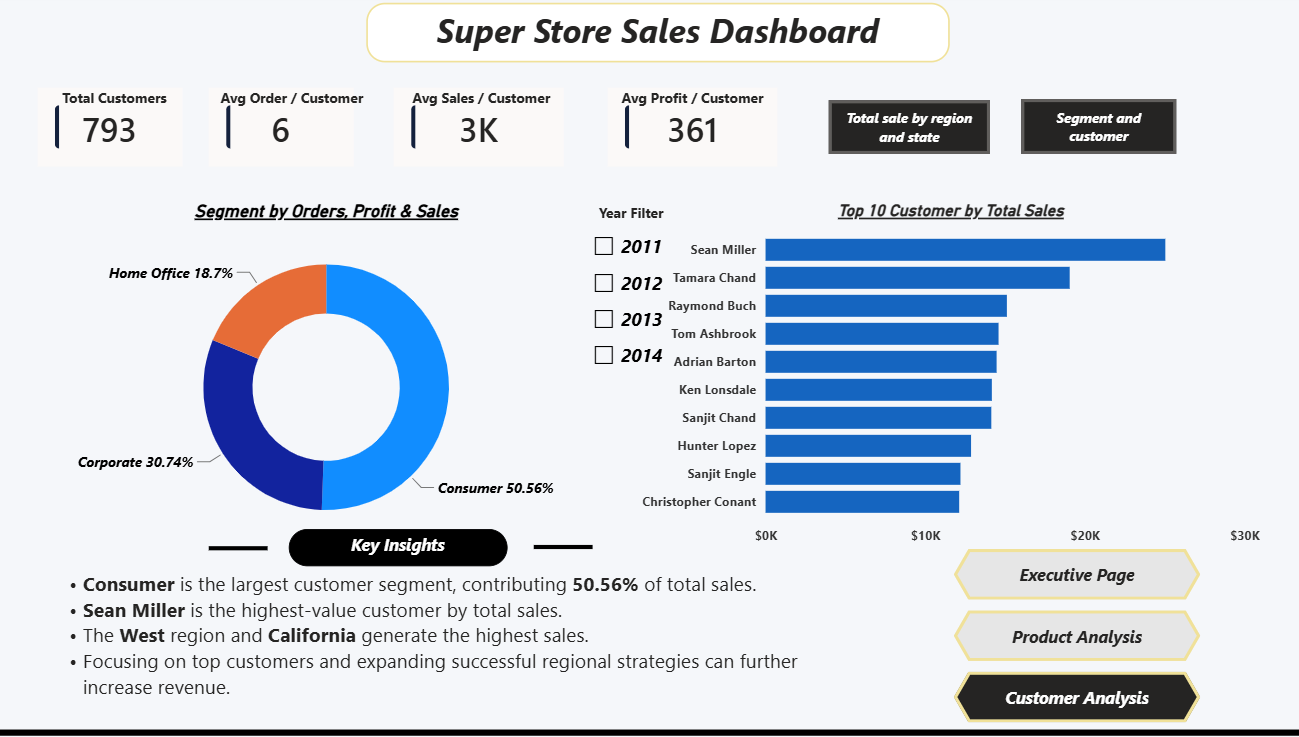

This screenshot's page, from the dashboard's own definition file:
{"tool":"powerbi","page":{"name":"Customer Analysis","canvas":[1280,720],"ordinal":2},"visuals":[{"type":"textbox","box":[358.3,8.4,563.4,57.9],"z":0},{"type":"donutChart","title":"Segment by Orders, Profit & Sales","fields":{"Category":["Orders.Segment"],"Y":["Measures (2).Total Sales"]},"box":[48.5,199.6,543.1,342.1],"z":3000},{"type":"barChart","title":"Top 10 Customer by Total Sales","fields":{"Category":["Orders.Customer Name"],"Y":["Measures (2).Total Sales"]},"box":[618.6,199.6,607.2,342.1],"z":4000},{"type":"textbox","box":[48.3,90.5,125.5,29],"z":7000},{"type":"cardVisual","fields":{"Data":["Measures (2).Total Customer"]},"box":[41,90.5,139.9,76],"z":8000},{"type":"textbox","box":[48.3,85.7,133.9,33.8],"z":9000},{"type":"cardVisual","fields":{"Data":["Measures (2).AVG Order per customer"]},"box":[206.3,90.5,139.9,76],"z":10000},{"type":"textbox","box":[206.3,85.7,160.5,33.8],"z":11000},{"type":"cardVisual","fields":{"Data":["Measures (2).Avg sales per customer"]},"box":[384.9,90.5,164.1,76],"z":12000},{"type":"textbox","box":[389.7,85.7,159.3,31.4],"z":13000},{"type":"cardVisual","fields":{"Data":["Measures (2).Avg profit per customer"]},"box":[591.2,90.5,164.1,76],"z":14000},{"type":"textbox","box":[581.5,85.7,183.4,30.2],"z":15000},{"type":"slicer","fields":{"Values":["Date Table.YearNumber"]},"box":[565.8,220.8,112.2,153.2],"z":16000},{"type":"textbox","box":[539.3,196.6,149.6,31.4],"z":17000},{"type":"actionButton","box":[804.7,102.5,155.6,51.9],"z":18000},{"type":"actionButton","box":[990.5,101.3,149.6,53.1],"z":19000},{"type":"textbox","box":[51.3,551.6,759.7,168.2],"z":20000},{"type":"textbox","box":[283.7,516,211,35.6],"z":21000},{"type":"shape","box":[520.3,503.2,57,61.3],"z":22000},{"type":"shape","box":[206.7,504.6,57,61.3],"z":23000},{"type":"pageNavigator","box":[925.1,535.9,238,168.2],"z":24000},{"type":"shape","box":[0,705.6,1280,14.3],"z":25000}]}

Visuals, with their boxes in screenshot pixels (x1, y1, x2, y2), scaled from the page's 1280x720 canvas onto the 1299x737 screenshot:
textbox: <region>364, 9, 935, 68</region>
"Segment by Orders, Profit & Sales" donutChart: <region>49, 204, 600, 554</region>
"Top 10 Customer by Total Sales" barChart: <region>628, 204, 1244, 554</region>
textbox: <region>49, 93, 176, 122</region>
cardVisual - Measures (2).Total Customer: <region>42, 93, 184, 170</region>
textbox: <region>49, 88, 185, 122</region>
cardVisual - Measures (2).AVG Order per customer: <region>209, 93, 351, 170</region>
textbox: <region>209, 88, 372, 122</region>
cardVisual - Measures (2).Avg sales per customer: <region>391, 93, 557, 170</region>
textbox: <region>395, 88, 557, 120</region>
cardVisual - Measures (2).Avg profit per customer: <region>600, 93, 767, 170</region>
textbox: <region>590, 88, 776, 119</region>
slicer - Date Table.YearNumber: <region>574, 226, 688, 383</region>
textbox: <region>547, 201, 699, 233</region>
actionButton: <region>817, 105, 975, 158</region>
actionButton: <region>1005, 104, 1157, 158</region>
textbox: <region>52, 565, 823, 736</region>
textbox: <region>288, 528, 502, 565</region>
shape: <region>528, 515, 586, 578</region>
shape: <region>210, 517, 268, 579</region>
pageNavigator: <region>939, 549, 1180, 721</region>
shape: <region>0, 722, 1298, 736</region>
